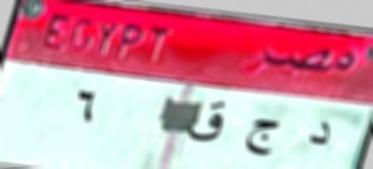6: (66, 86, 108, 128)
daal: (308, 118, 338, 155)
jeem: (240, 108, 285, 162)
qaaf: (184, 102, 235, 146)
